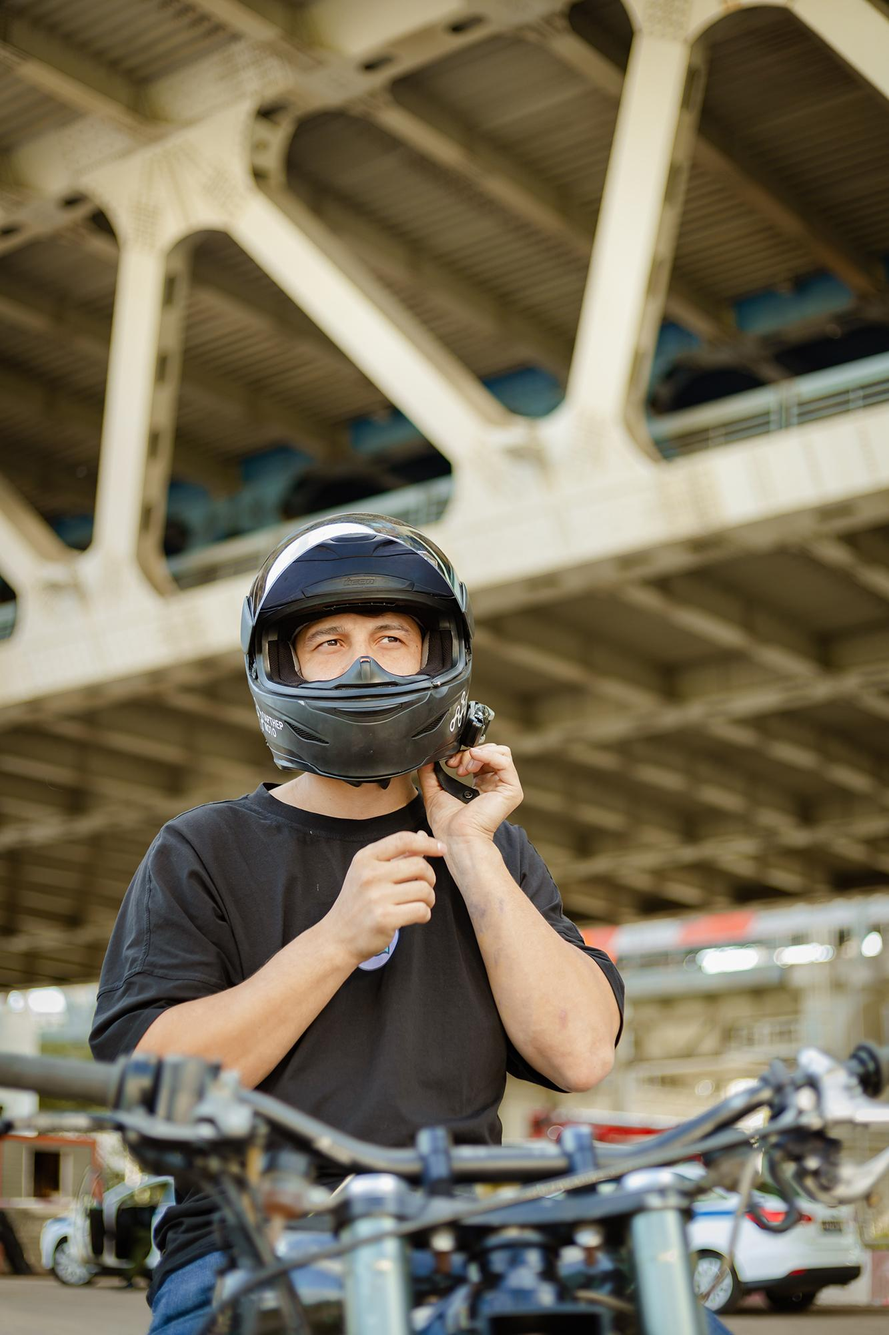helmet: (238, 510, 496, 807)
